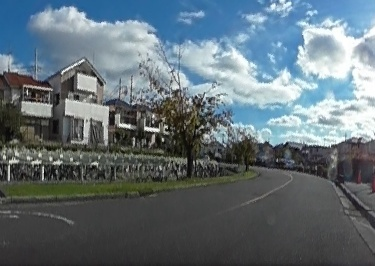person: (351, 152, 362, 179)
